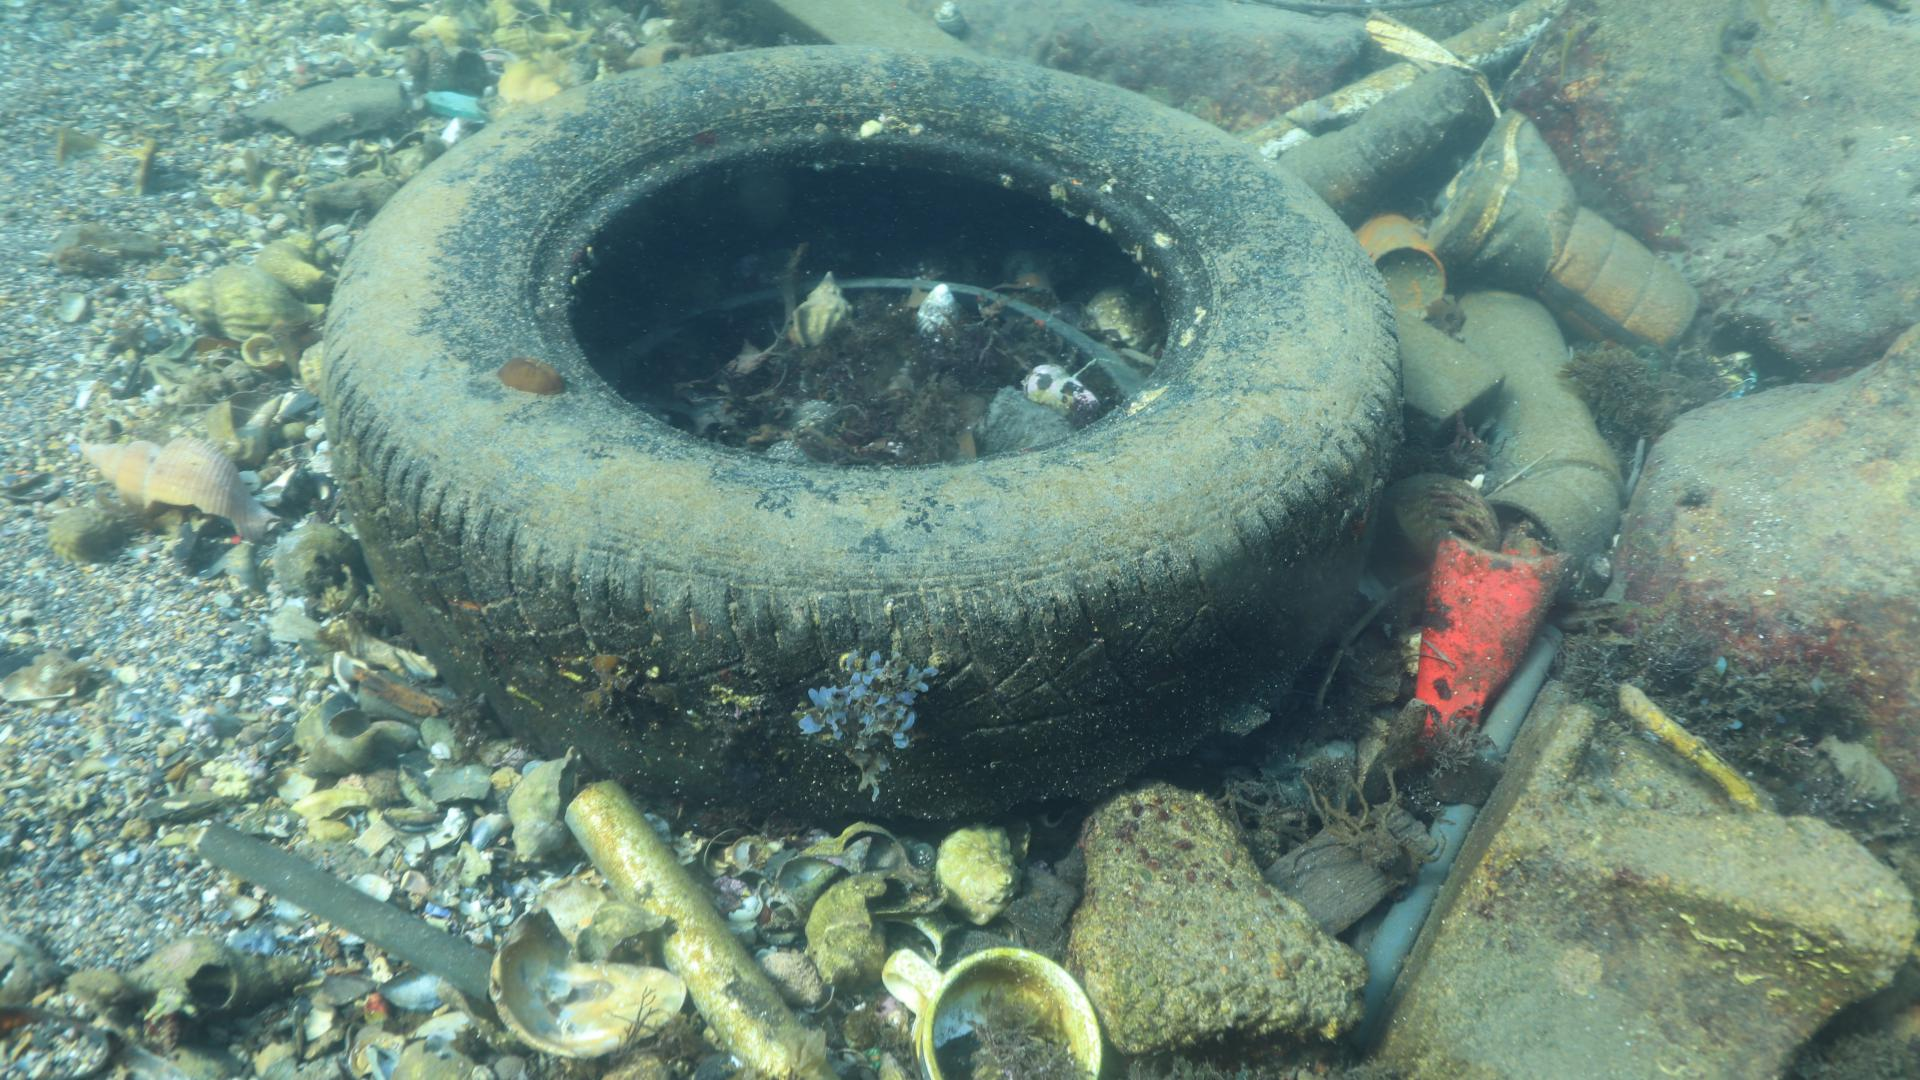tire: (320, 40, 1398, 822)
wood: (758, 0, 1510, 444)
